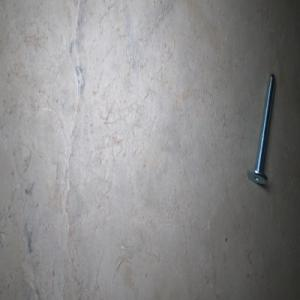Bolt: (246, 73, 276, 185)
